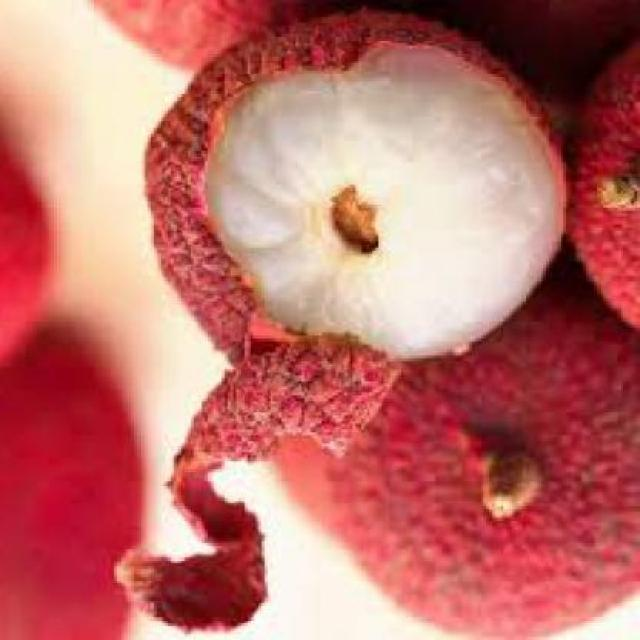BIODEGRADABLE: (119, 3, 575, 637), (330, 252, 638, 638), (206, 43, 568, 362), (3, 341, 142, 637), (406, 3, 639, 139), (570, 31, 638, 337), (94, 3, 372, 71), (3, 154, 57, 361), (279, 436, 350, 546)
